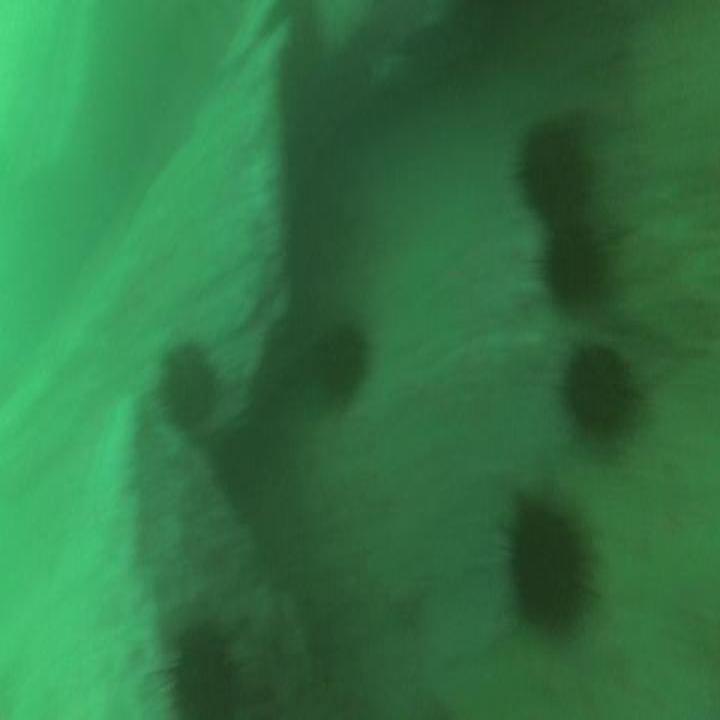echinus: (511, 507, 583, 622), (564, 348, 631, 434), (170, 640, 235, 720), (524, 126, 582, 215), (311, 325, 366, 406), (549, 230, 601, 302), (169, 356, 216, 434)
